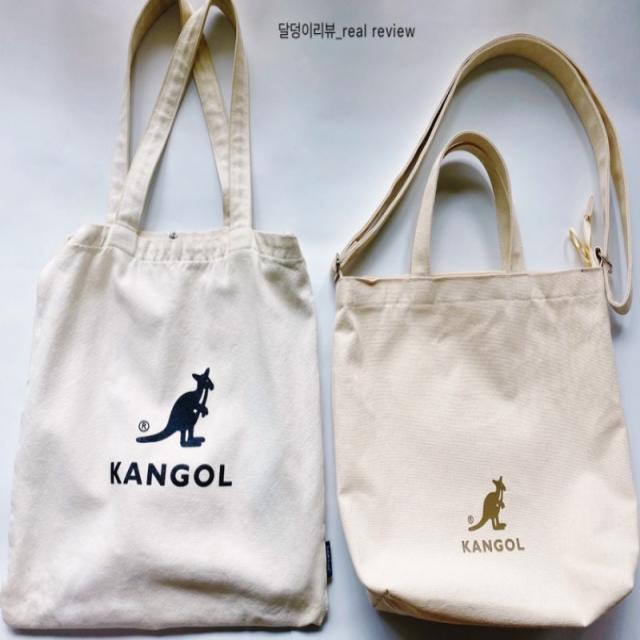ecobag: (9, 11, 340, 628)
